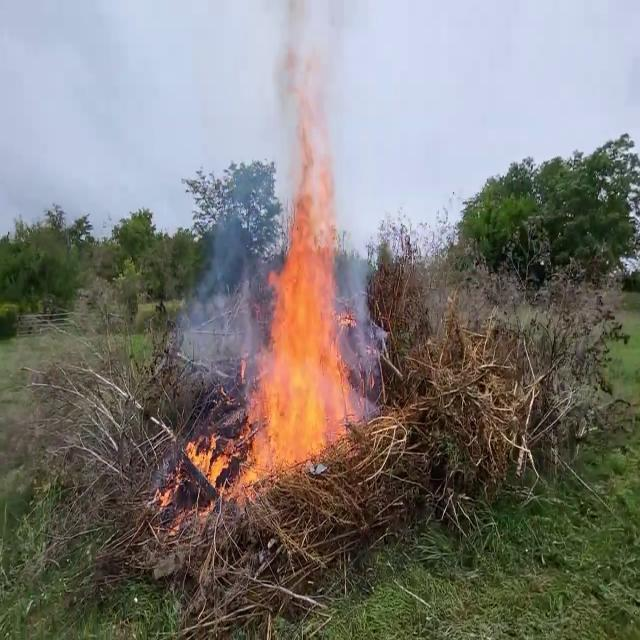Fire: (170, 156, 370, 528), (238, 173, 360, 480), (182, 424, 230, 494)
Smoke: (270, 0, 350, 205)
